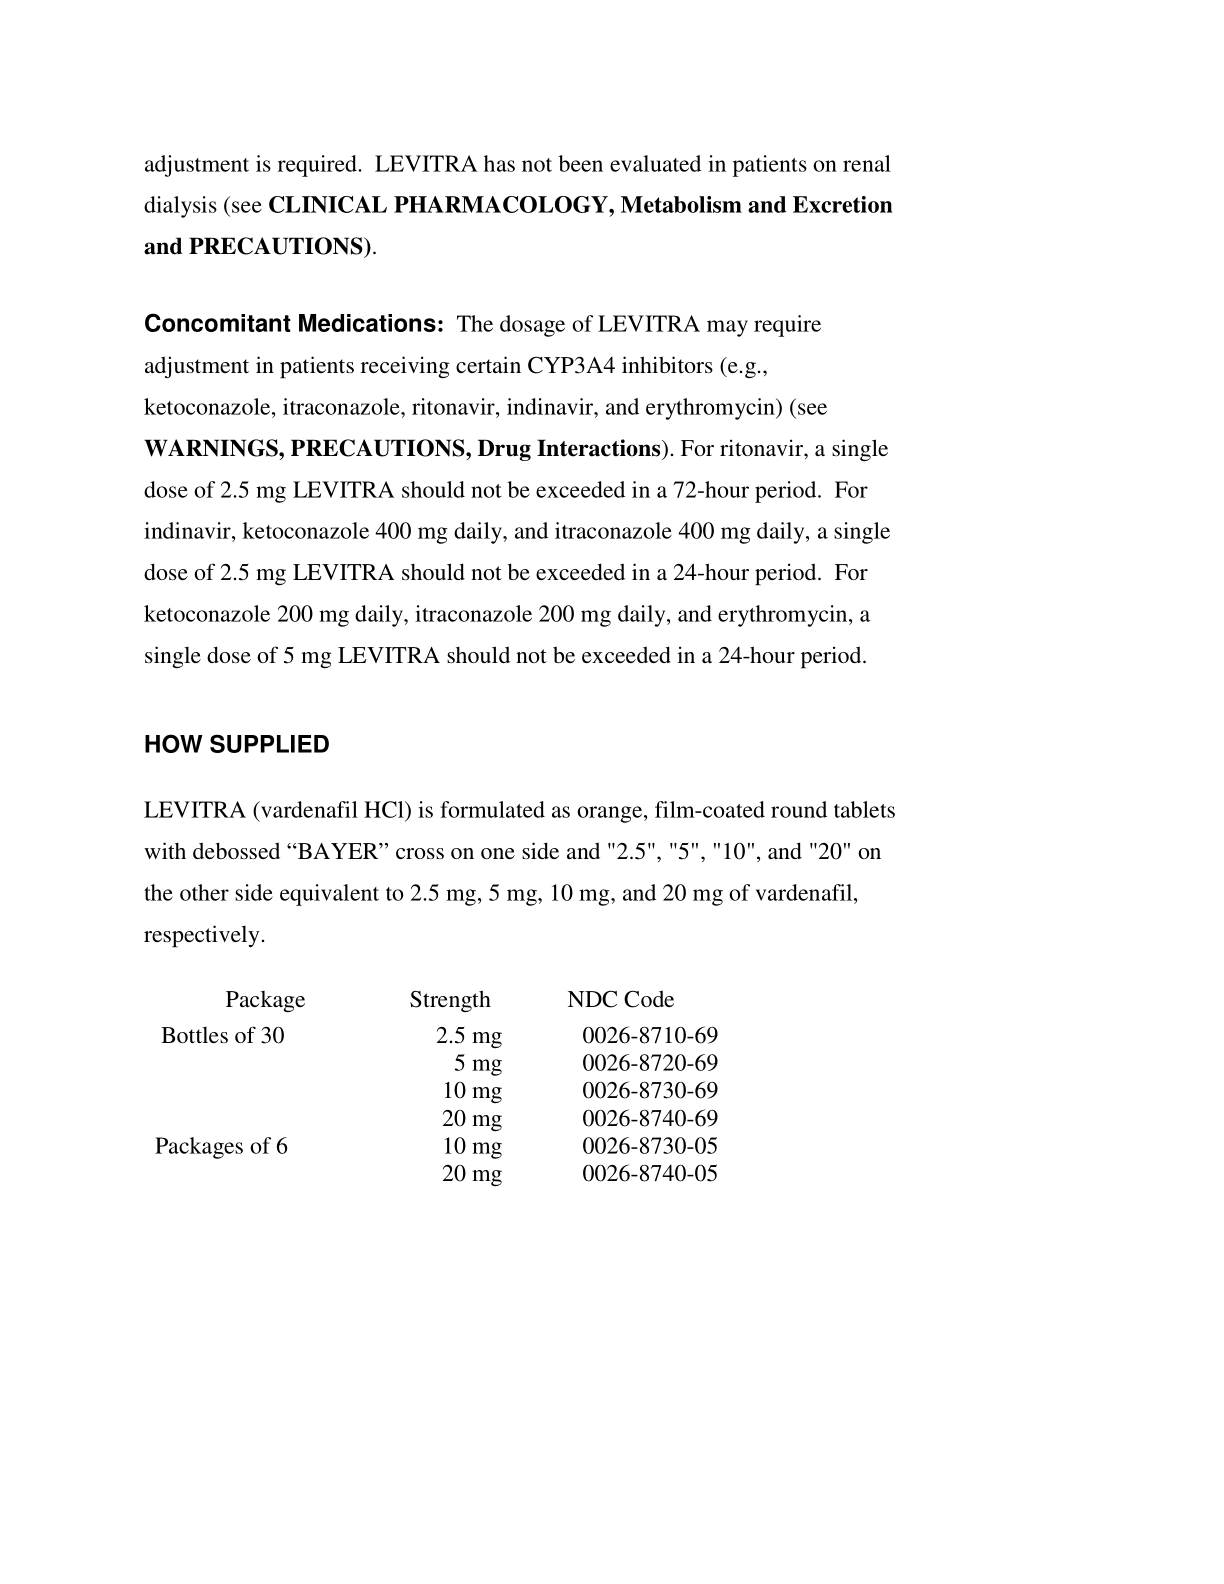nolines: (150, 985, 723, 1191)
